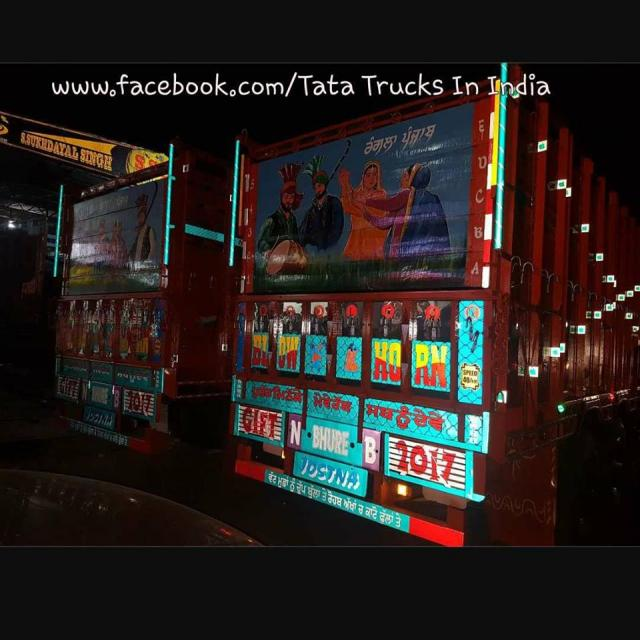truck: (226, 63, 640, 557), (47, 148, 231, 452)
